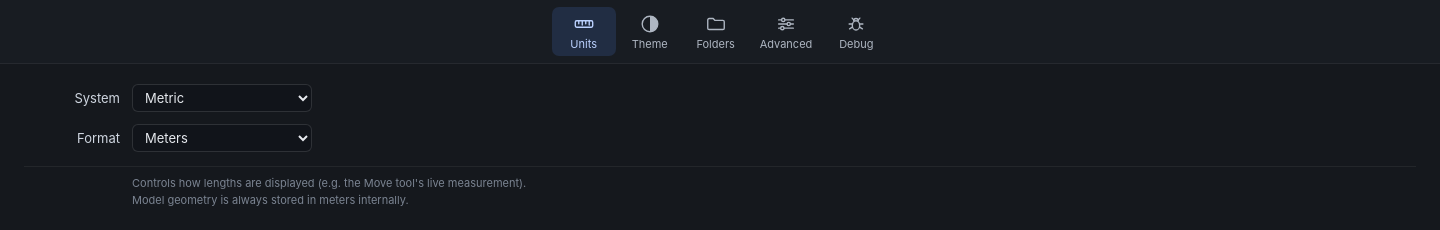
it: SettingsWindow › switches to the Debug pane when the Debug tab is clicked
The width and height of the screenshot is (1440, 230).
Click the tab "Debug" at (856, 32), box [824, 7, 888, 56]
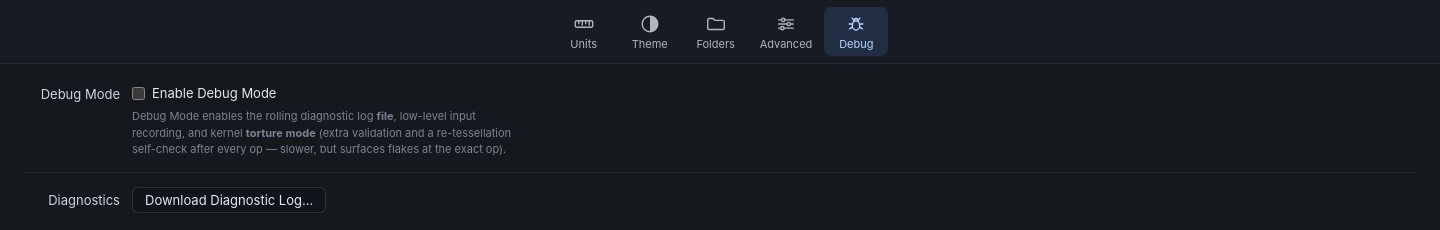
Expected: the checkbox labelled "Enable Debug Mode" is shown, [132, 87, 145, 100]
Expected: the text "System" is gone
